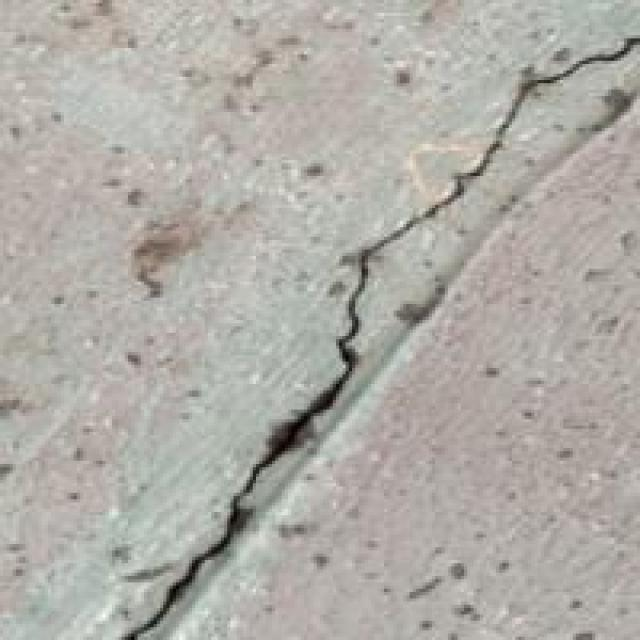Crack: (121, 29, 636, 637)
